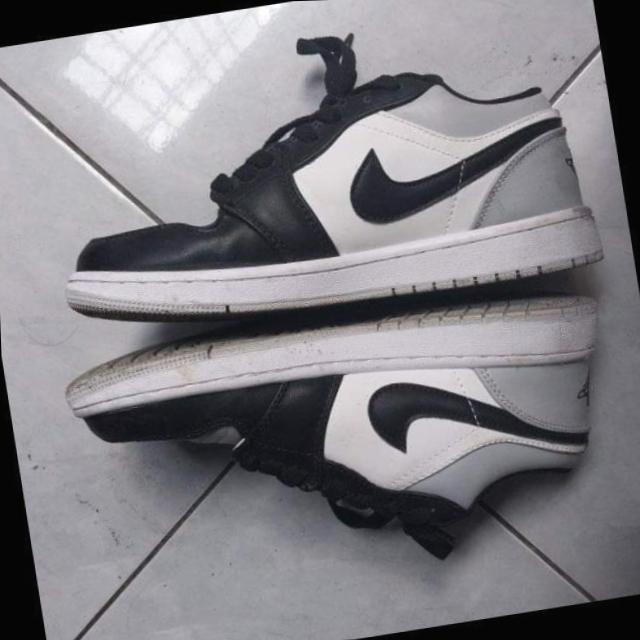nike_fake_jordan: (56, 274, 638, 618), (34, 41, 611, 355)
